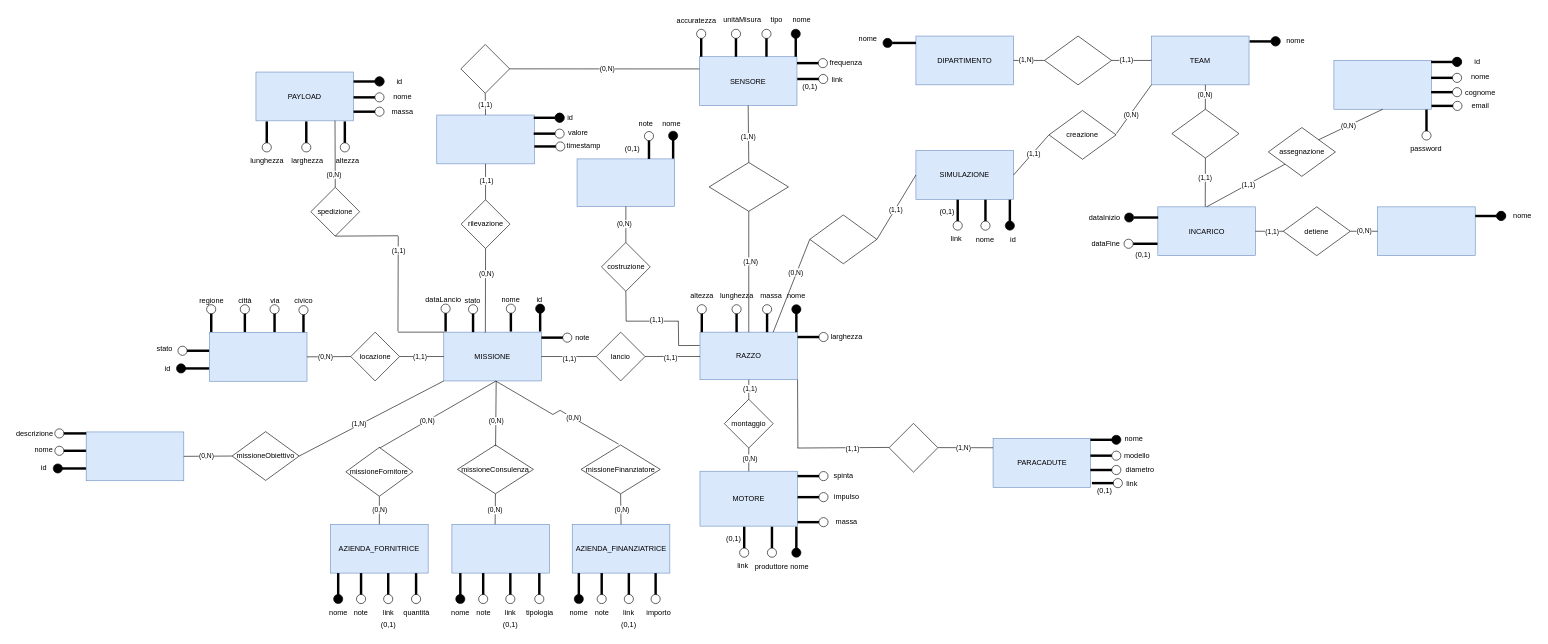
Image size: 1548x644. Some labels were removed from this diagram. Here are the shapes that lost their labels. From the top down, the centre of each, then its label:
At (x=485, y=68): "misurazione".
At (x=1078, y=60): "composizione".
At (x=1382, y=84): "MEMBRO".
At (x=485, y=139): "DATO_SENSORE".
At (x=1205, y=133): "appartenenza".
At (x=625, y=182): "MATERIALE".
At (x=748, y=186): "razzoSensore".
At (x=843, y=239): "esecuzione".
At (x=1426, y=231): "RUOLO".
At (x=258, y=356): "LUOGO".
At (x=135, y=456): "OBIETTIVO".
At (x=913, y=447): "salvataggio".
At (x=500, y=548): "AZIENDA_CONSULENZIALE".
